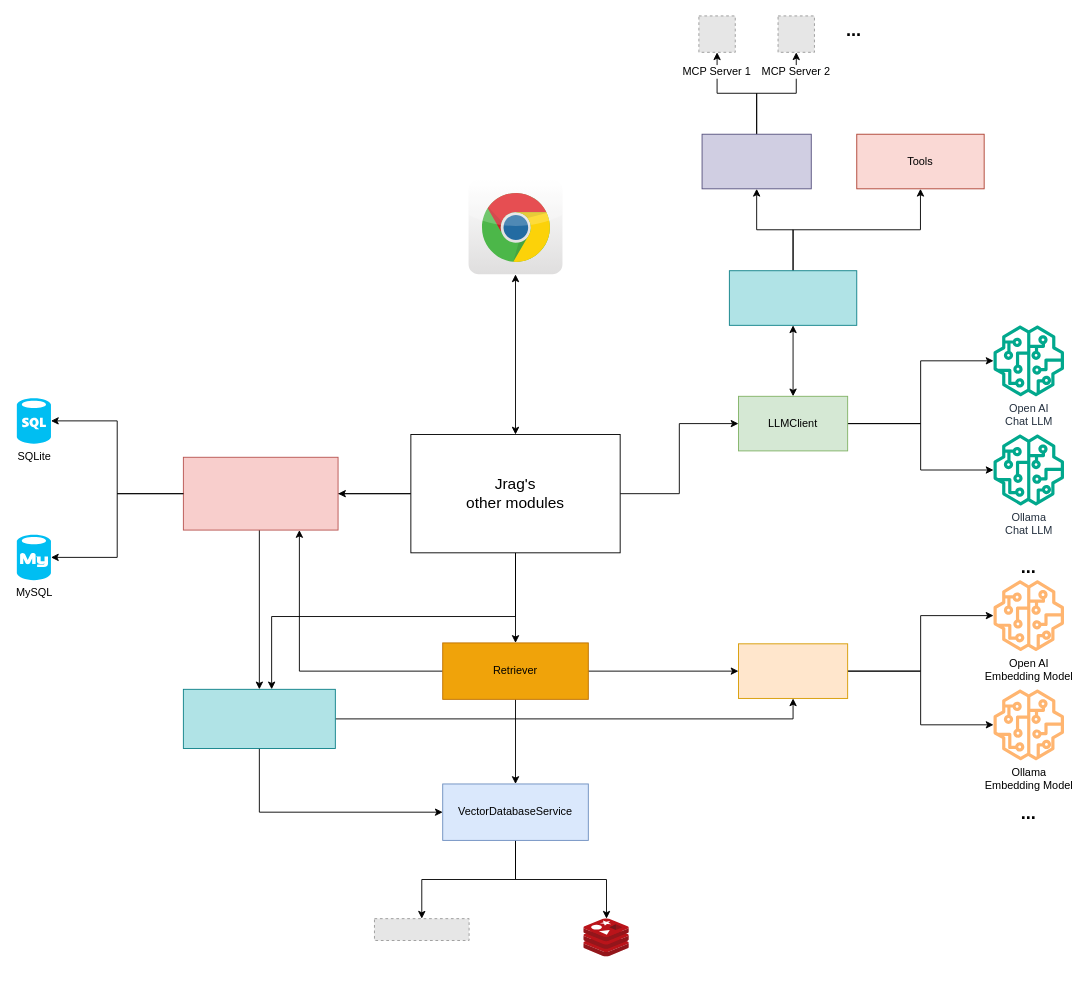
This 1088x992 diagram has some shape labels left out. Grey dashed boxes stand in for pictures. The centre of each missing label's shape, as x and y in pixels:
"DAO" goes at pixel 260 493.
"EmbeddingService" goes at pixel 793 670.
"FunctionCallingService" goes at pixel 792 297.
"KnowledgeService" goes at pixel 258 718.
"MCP Client" goes at pixel 756 161.
"Redis" goes at pixel 606 937.
"Web UI" goes at pixel 515 226.
